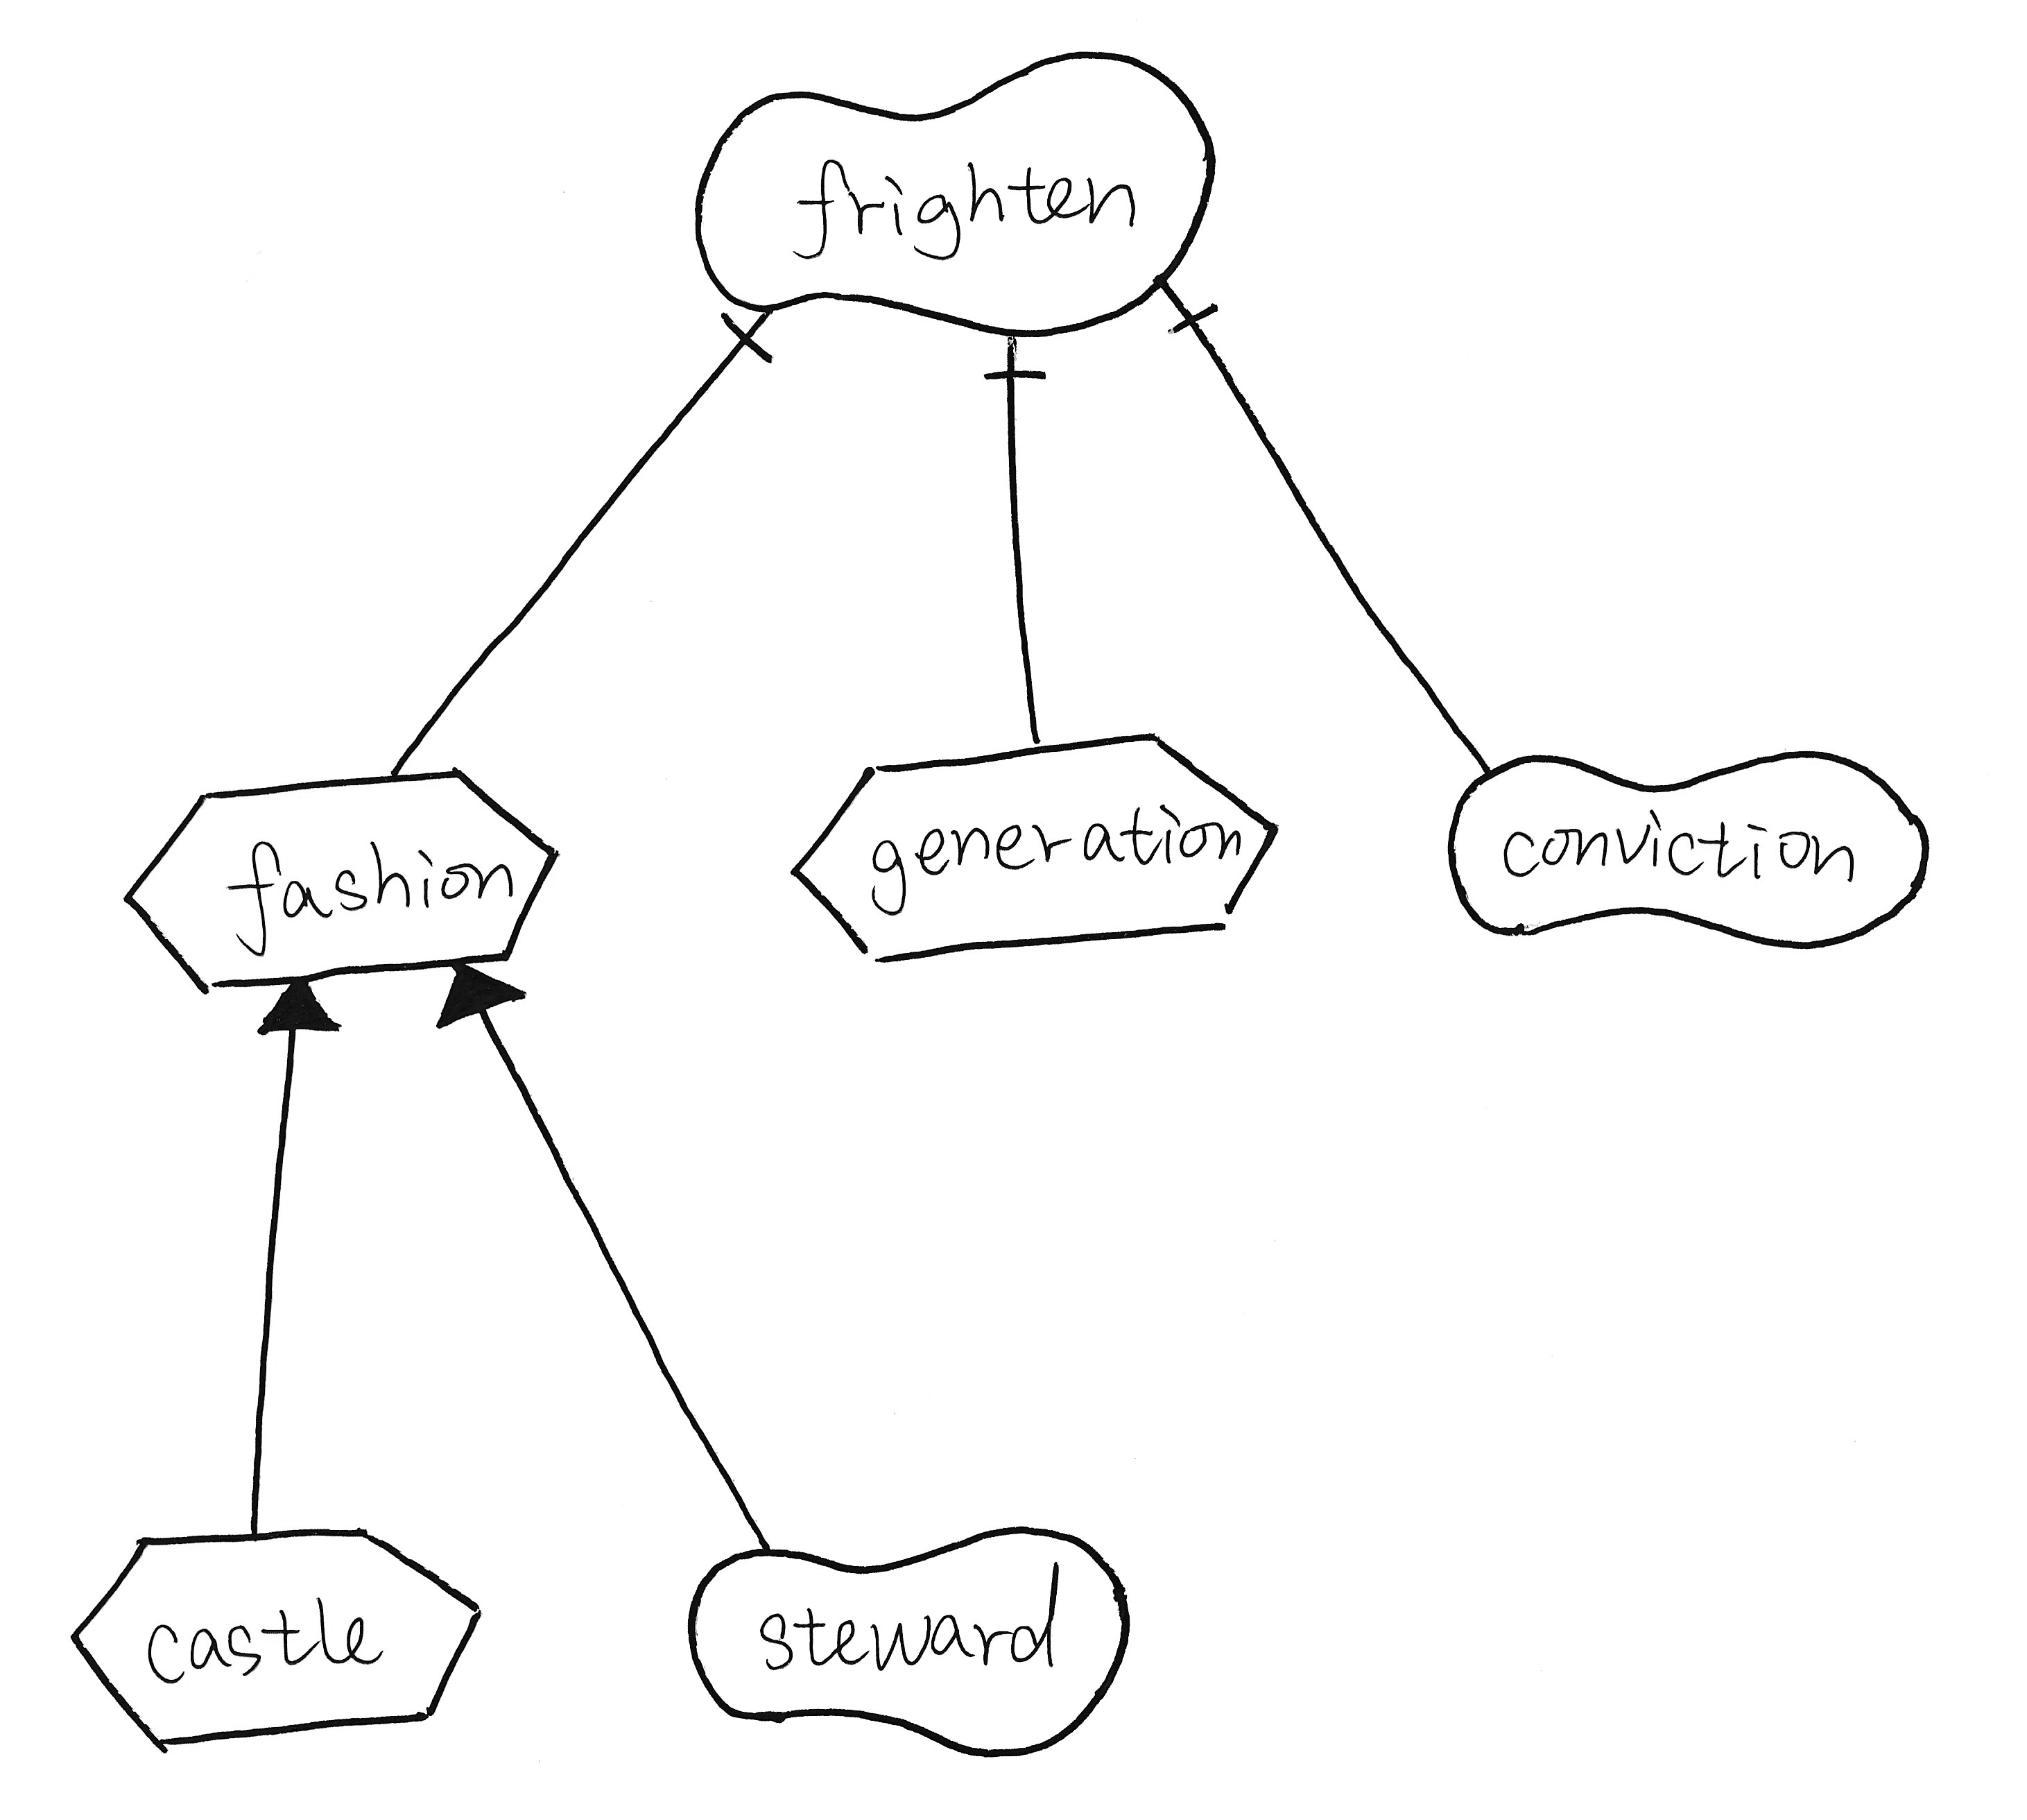and: (963, 332, 1059, 416), (710, 300, 803, 383), (1154, 292, 1240, 362)
or: (416, 952, 550, 1042), (246, 973, 355, 1049)
quality: (673, 32, 1230, 348), (669, 1499, 1151, 1771), (1423, 729, 1944, 963)
task: (778, 715, 1289, 979), (107, 757, 583, 1003), (60, 1507, 494, 1760)
